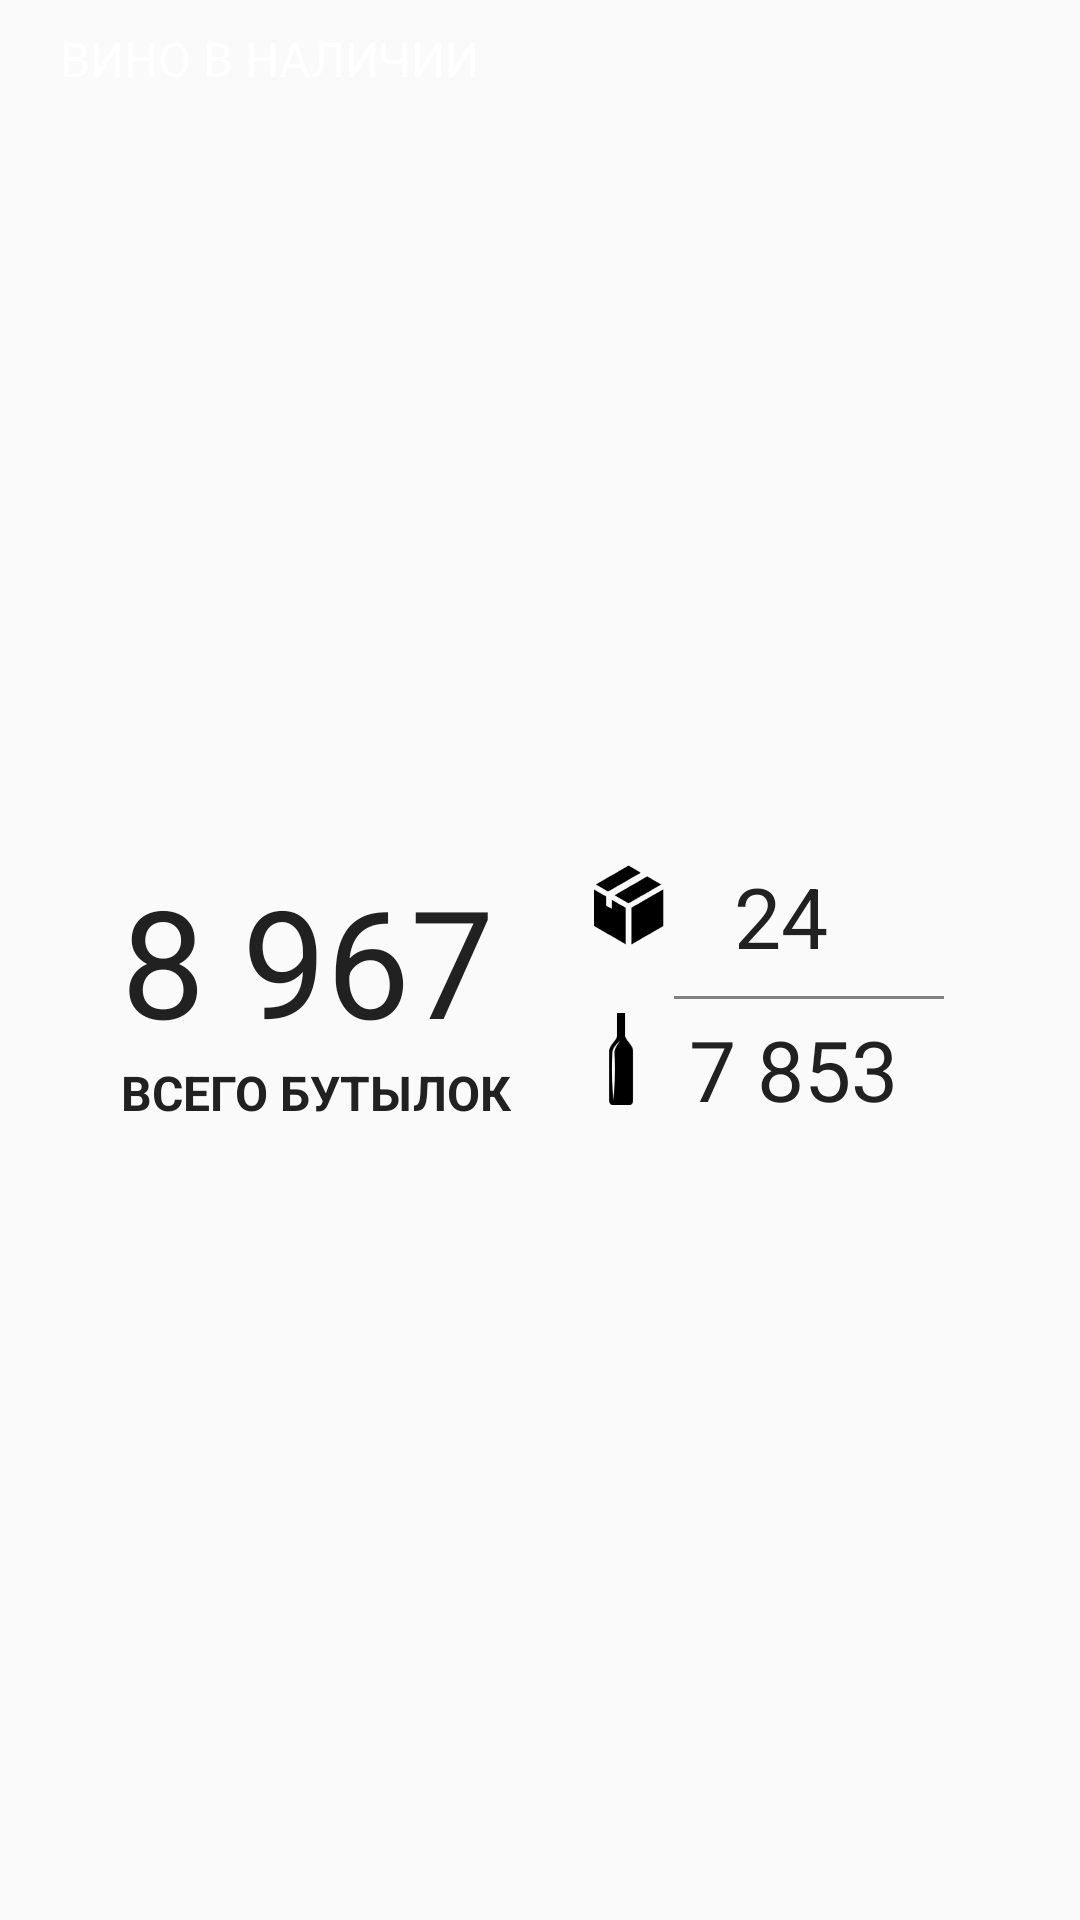

Where to tap for icons on this 1080px×1920px app screen, as point (x, y):
box: point (629, 905)
wine bottle: point (621, 1059)
